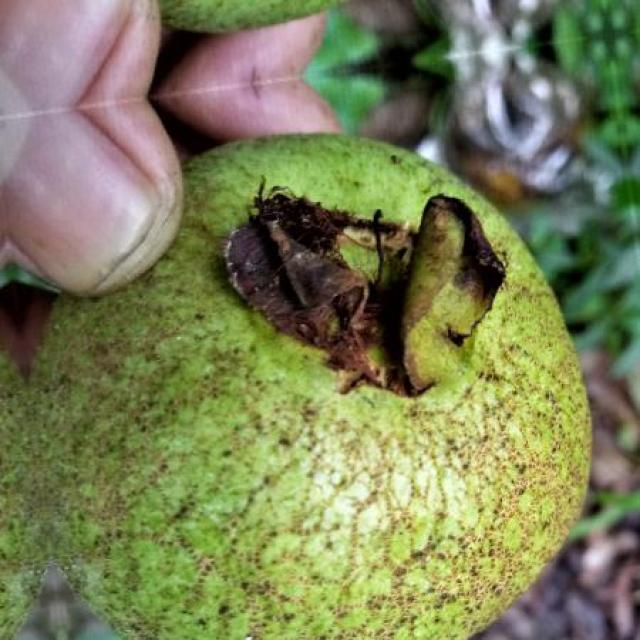Scab: (0, 136, 590, 639)
